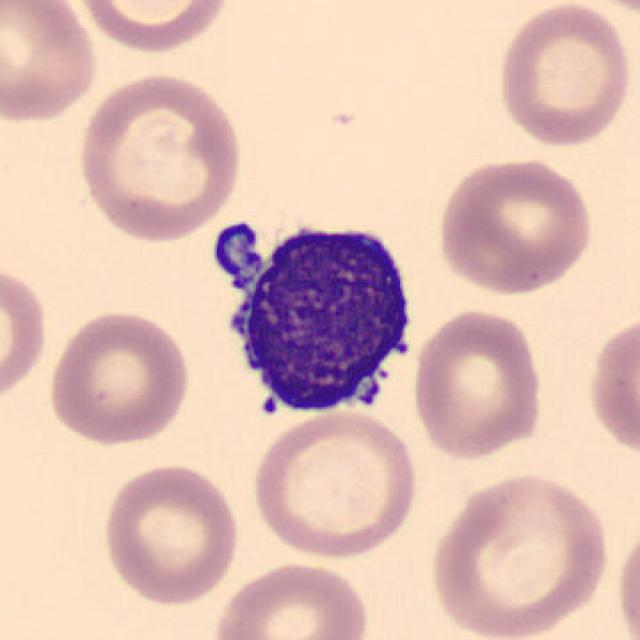Lymphocyte: (197, 204, 427, 428)
RBC: (425, 469, 613, 640), (73, 67, 247, 245), (247, 406, 421, 560), (434, 153, 597, 298), (409, 303, 547, 464), (98, 458, 244, 608), (43, 306, 194, 449), (492, 0, 634, 150), (210, 557, 373, 640), (0, 0, 101, 127), (70, 0, 236, 55), (583, 308, 638, 466), (0, 257, 52, 409), (611, 516, 640, 640), (572, 0, 638, 16)
